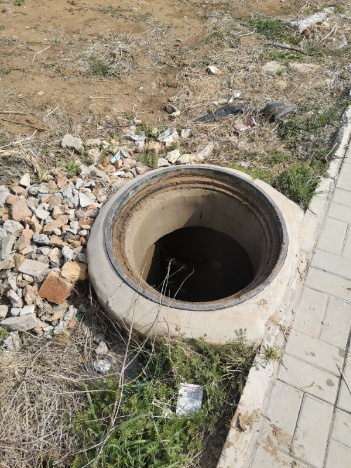well: (101, 162, 288, 311)
